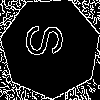S: (25, 23, 72, 58)
